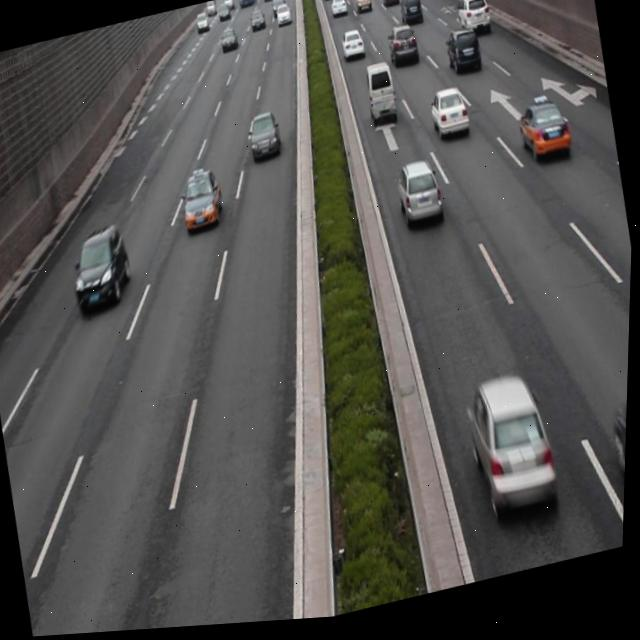car: (464, 379, 564, 531), (66, 226, 139, 314), (392, 164, 448, 239), (512, 104, 572, 173), (178, 165, 228, 238), (609, 404, 630, 547), (427, 91, 471, 150), (443, 32, 482, 85), (246, 115, 283, 162)
truck: (360, 64, 401, 134)
